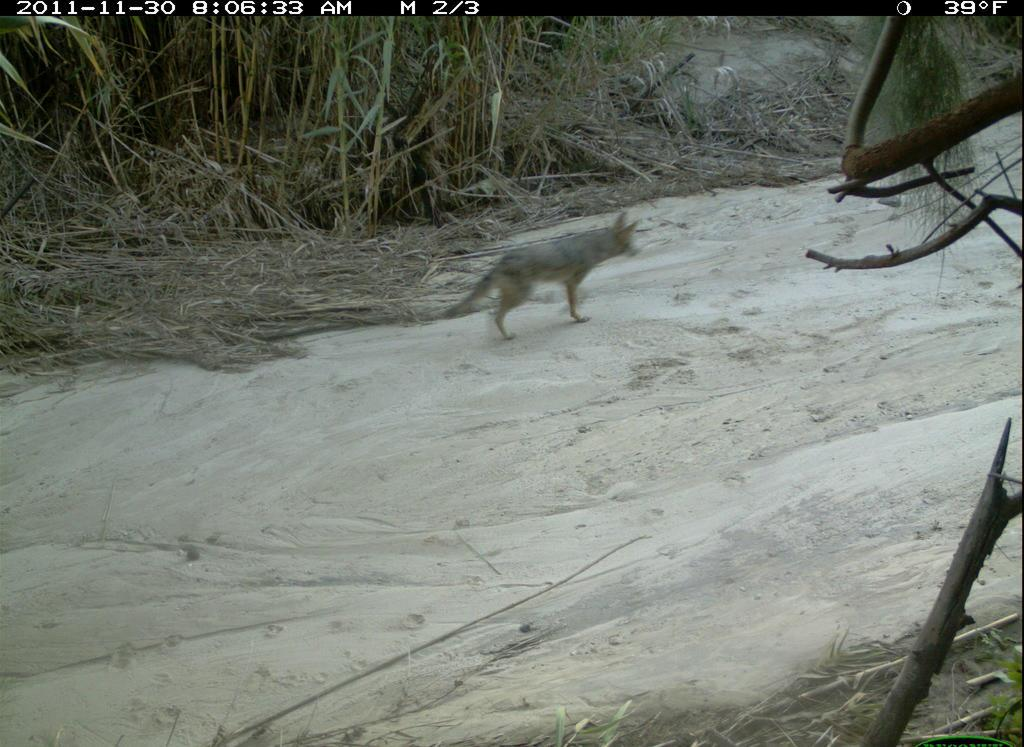coyote: (432, 204, 652, 354)
